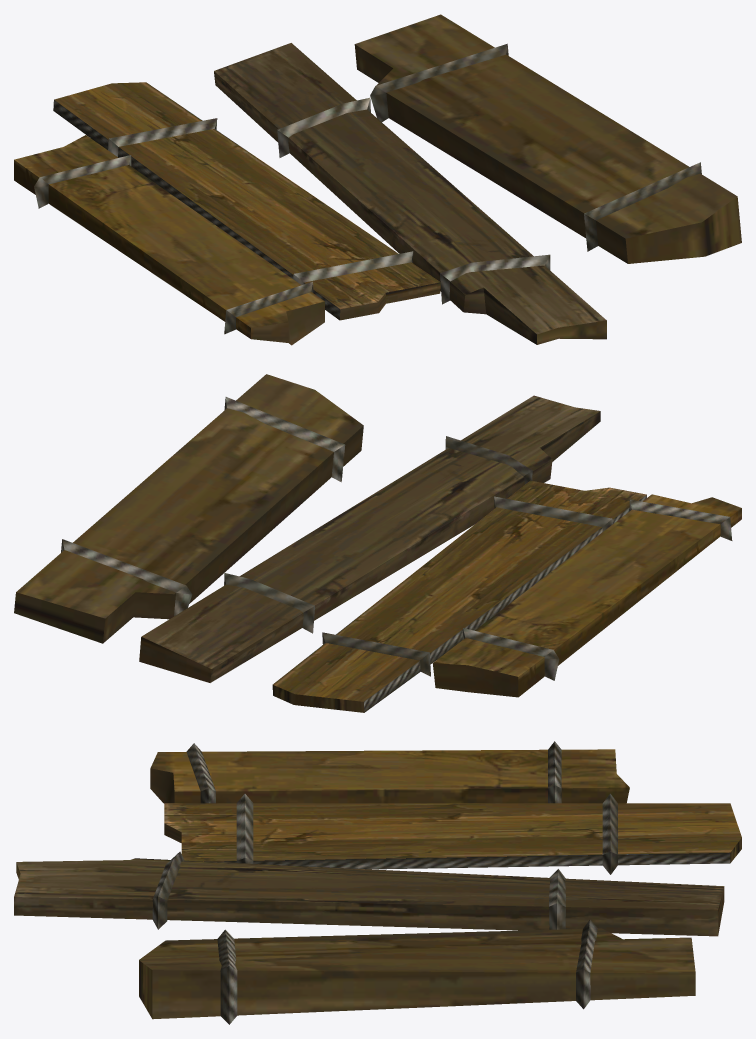
The model's file is 6001_Item_mutou_11.FBX.
The picture shows the model from 3 angles, top to bottom: view 1: azimuth 30°, elevation 25°; view 2: azimuth 150°, elevation 25°; view 3: azimuth 270°, elevation 25°; orthographic projection.
Visible parts, largest first — view 1: 6001_Item_mutou_11; view 2: 6001_Item_mutou_11; view 3: 6001_Item_mutou_11.
Part boxes in pixels (bbox=[...]): 6001_Item_mutou_11: bbox=[14, 14, 741, 345]; 6001_Item_mutou_11: bbox=[14, 374, 741, 712]; 6001_Item_mutou_11: bbox=[14, 741, 741, 1024].
Size of the model in its own units: 234 by 27.22 by 294.
